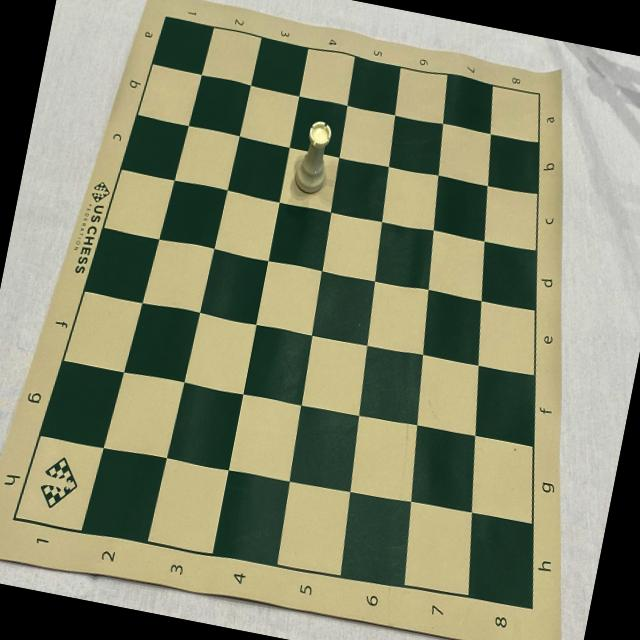white-rook: (290, 118, 338, 198)
